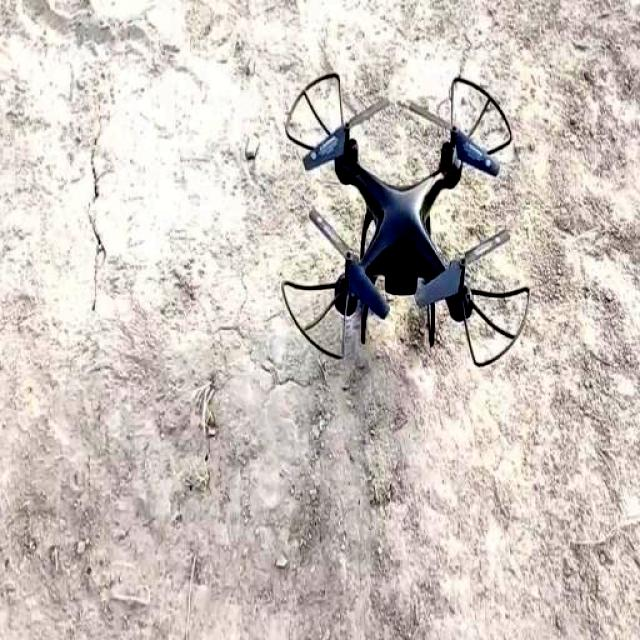bird: (258, 42, 544, 410)
